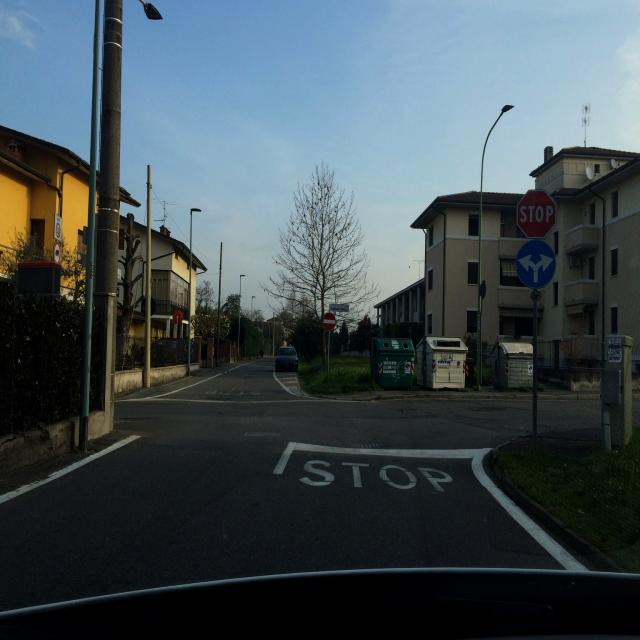car: (414, 336, 468, 392), (368, 337, 414, 391), (274, 346, 299, 372)
